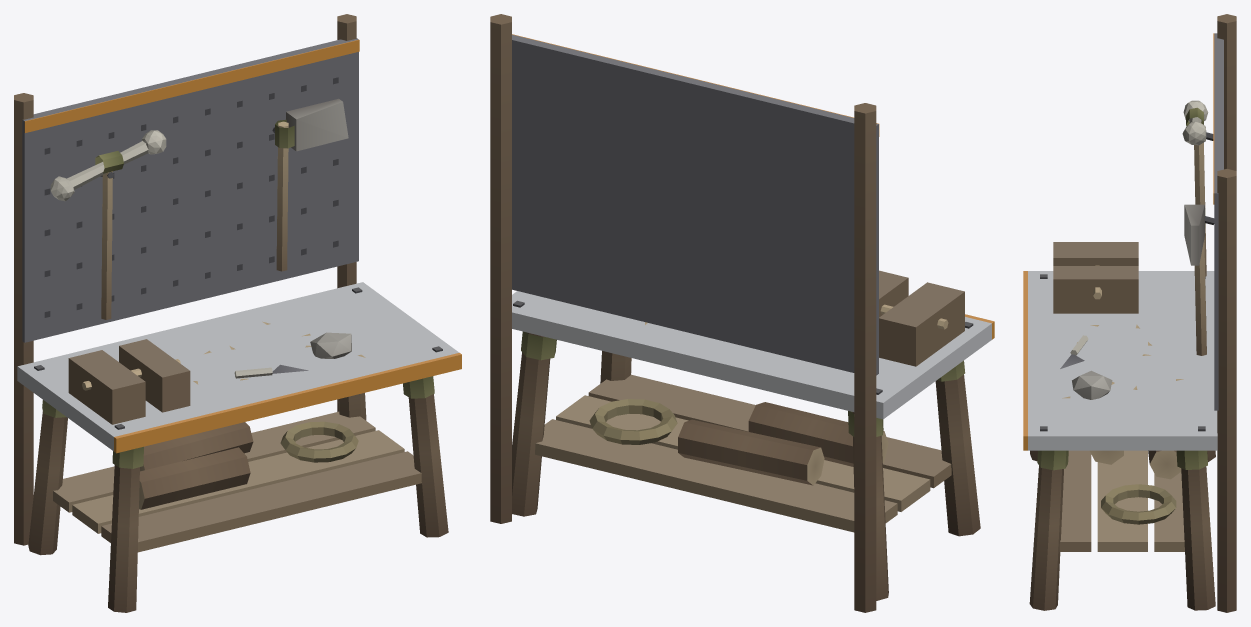
Rendered from workbench_a.glb.
3 renders of one model, left to right at view 1: azimuth 30°, elevation 25°; view 2: azimuth 150°, elevation 25°; view 3: azimuth 270°, elevation 25°, orthographic. The views are drawn at different scales.
Parts seen in each view (by area): view 1: base, stone_axe, stone_pick; view 2: base; view 3: base, stone_axe, stone_pick.
Boxes of the visible parts, <box> form: base: <box>14,14,461,612</box>; stone_axe: <box>275,98,348,271</box>; stone_pick: <box>50,130,166,319</box>; base: <box>490,14,994,612</box>; base: <box>1023,14,1236,612</box>; stone_axe: <box>1184,204,1206,355</box>; stone_pick: <box>1182,100,1208,276</box>.
Bounding box in the file's own units: 1.24 × 1.52 × 0.6753.
